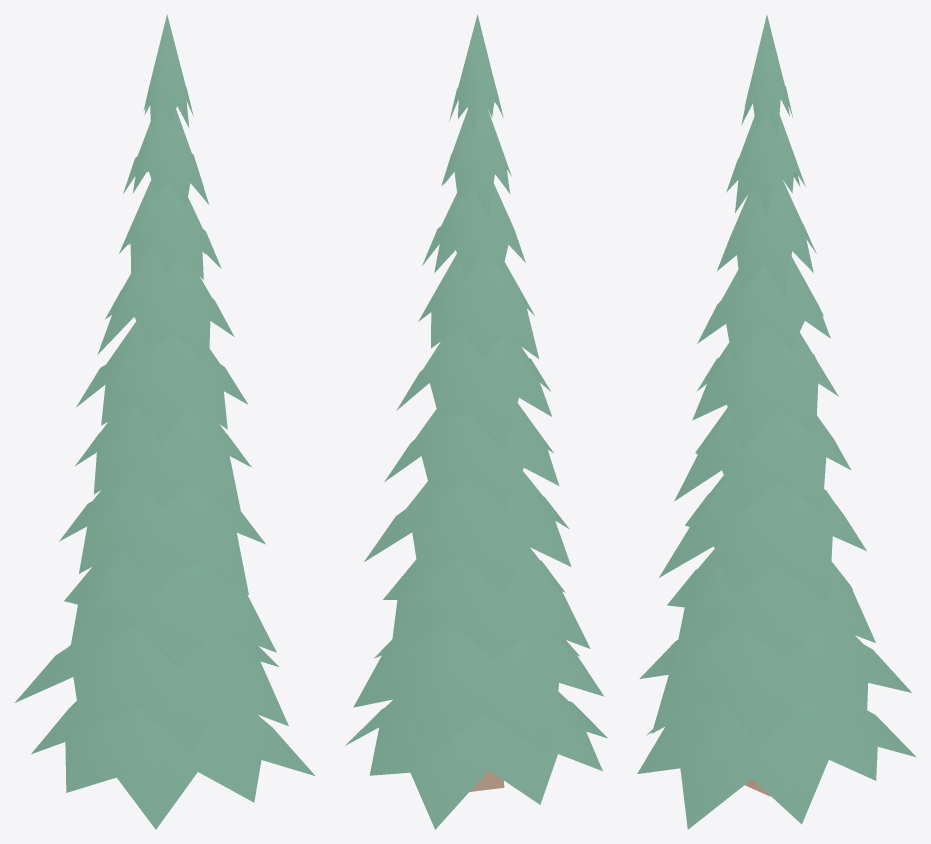
The model's file is Blender_Spruce_3_Far.glb.
3 views of the same model, side by side, from view 1: azimuth 30°, elevation 25°; view 2: azimuth 150°, elevation 25°; view 3: azimuth 270°, elevation 25° (orthographic).
Parts seen in each view (by area): view 1: Blender_Spruce_3_Far; view 2: Blender_Spruce_3_Far; view 3: Blender_Spruce_3_Far.
Boxes of the visible parts, box(x1,y1,x2,y2) form: Blender_Spruce_3_Far: box(15, 14, 314, 829); Blender_Spruce_3_Far: box(345, 14, 607, 829); Blender_Spruce_3_Far: box(637, 15, 916, 829).
Size of the model in its own units: 8.57 by 27.36 by 9.
